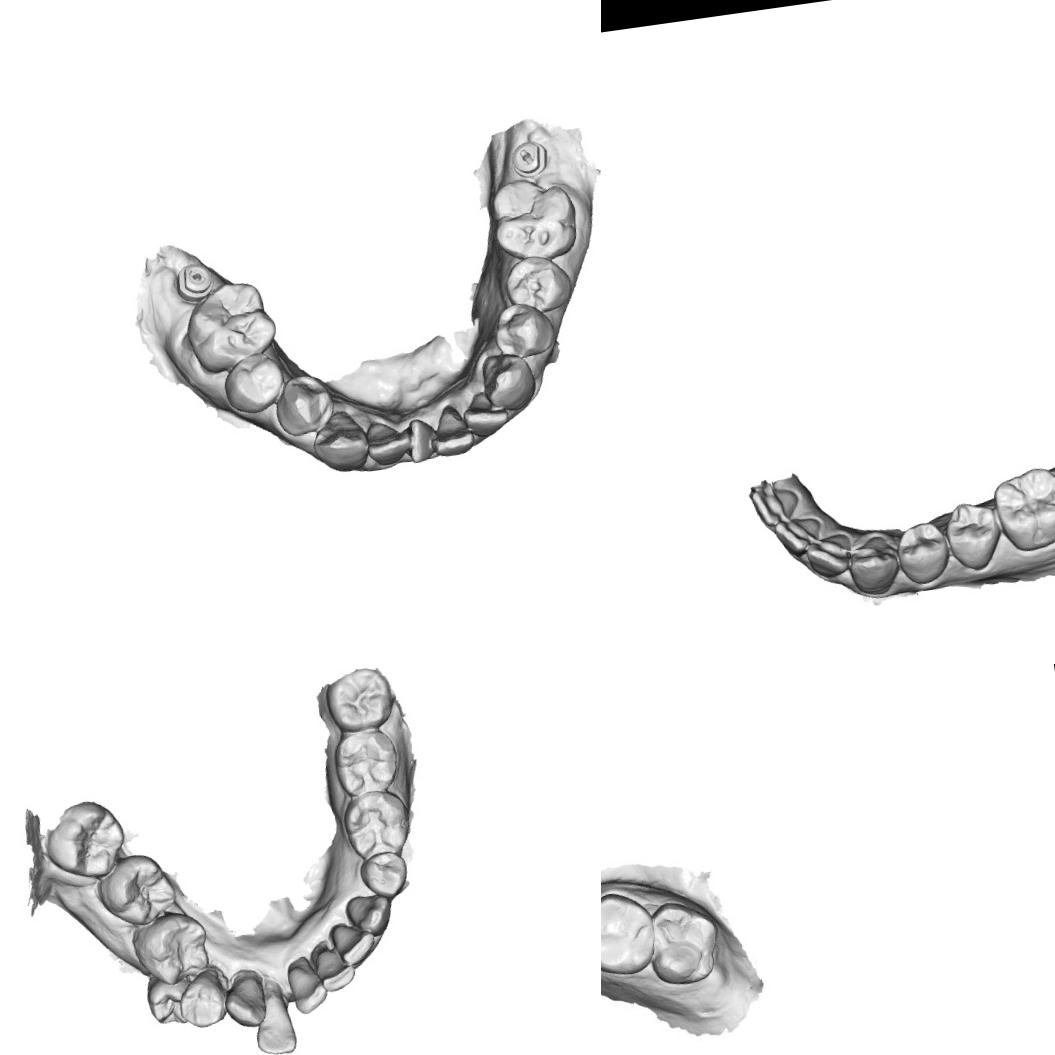canine: (307, 406, 370, 474), (844, 532, 904, 600), (477, 351, 538, 414), (221, 972, 269, 1031), (344, 891, 396, 941)
implant_minus: (171, 258, 212, 298), (510, 138, 550, 178)
incisor: (247, 978, 299, 1055), (424, 398, 480, 460), (800, 530, 860, 584), (746, 478, 805, 530), (457, 386, 513, 440), (282, 953, 330, 1016), (308, 934, 358, 994), (360, 416, 413, 470), (770, 511, 826, 559), (328, 918, 379, 968), (402, 414, 440, 466)
molar: (178, 275, 284, 378), (484, 171, 583, 267), (40, 795, 130, 885), (642, 894, 727, 987), (127, 905, 214, 990), (95, 850, 180, 931), (988, 459, 1055, 556), (339, 785, 416, 863), (329, 726, 404, 801), (320, 664, 397, 735), (601, 885, 659, 979)
premolar: (498, 251, 578, 319), (269, 368, 339, 444), (941, 495, 1006, 576), (216, 348, 290, 419), (487, 298, 558, 366), (890, 516, 954, 590), (174, 962, 235, 1032), (142, 970, 197, 1030), (356, 848, 412, 902)
